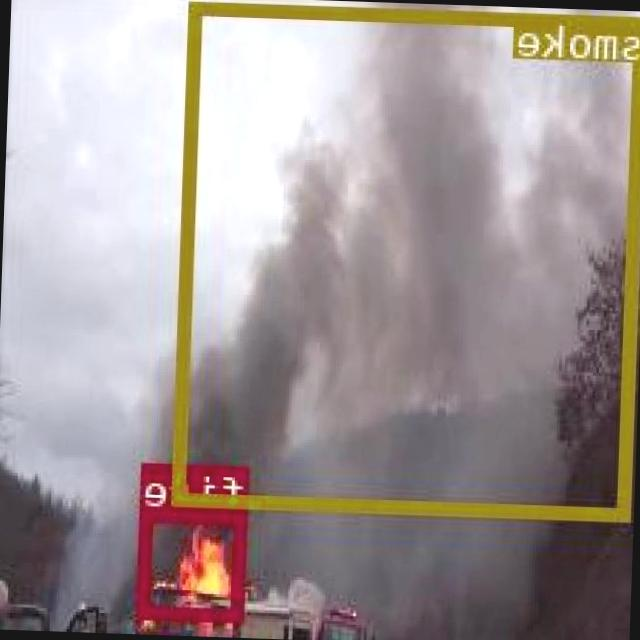fire: (140, 508, 248, 620)
smoke: (173, 0, 640, 518)
